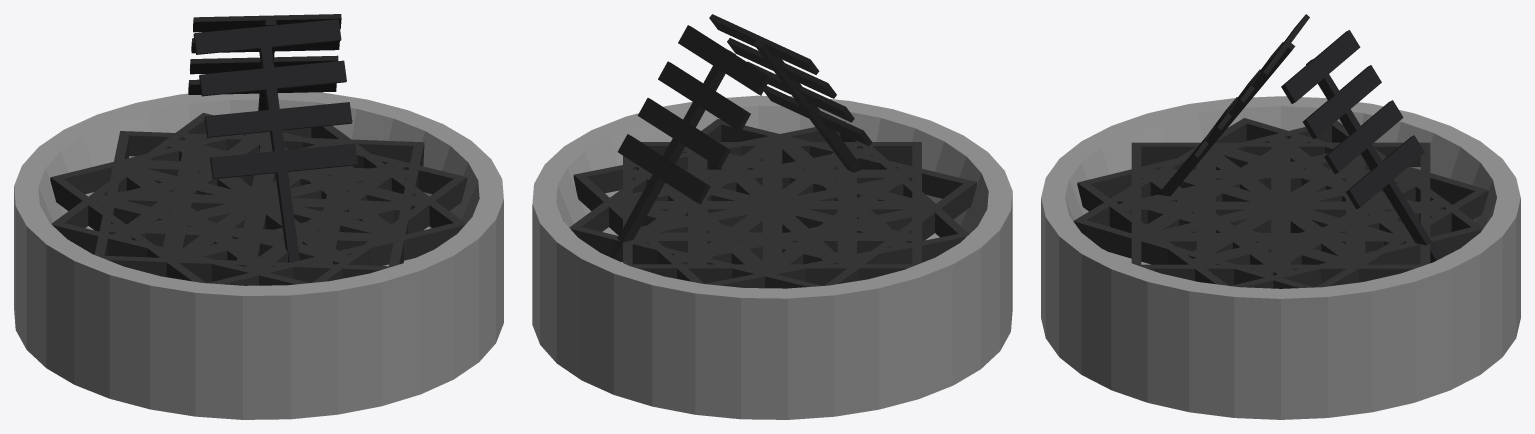
The model's file is parrilla.glb.
The picture shows the model from 3 angles, left to right: view 1: azimuth 30°, elevation 25°; view 2: azimuth 150°, elevation 25°; view 3: azimuth 270°, elevation 25°; orthographic projection. The views are drawn at different scales.
Parts seen in each view (by area): view 1: parrila; view 2: parrila; view 3: parrila.
Boxes of the visible parts, x1,y1,x2,y2 form: parrila: [14, 14, 503, 419]; parrila: [532, 14, 1012, 419]; parrila: [1041, 14, 1520, 419].
Size of what is drawn, in the model's own units: 6.35 by 4.1 by 6.35.
Materials: 1 (1 with a texture image).
